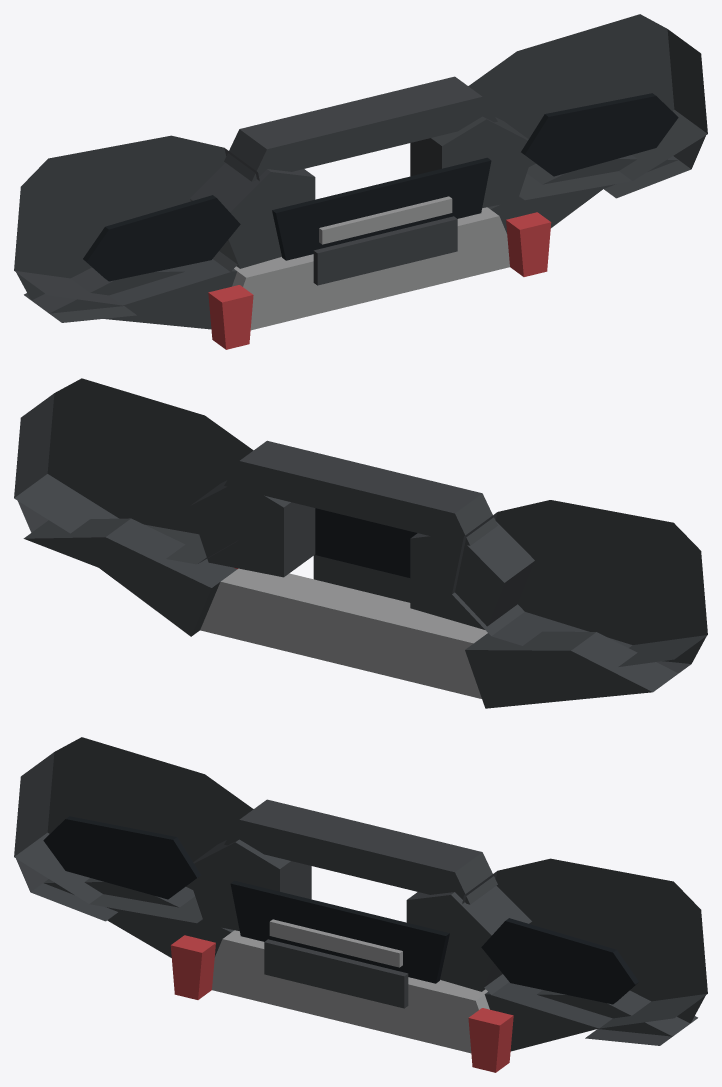
Rendered from predator-v4.glb.
The picture shows the model from 3 angles, top to bottom: view 1: azimuth 30°, elevation 25°; view 2: azimuth 150°, elevation 25°; view 3: azimuth 330°, elevation 25°; orthographic projection.
Parts seen in each view (by area): view 1: wing_L, wing_R, centre_upper, bash, winch_void, mesh_L, mesh_R, centre_left, centre_right, under_L, plate_bracket, under_R (+5 smaller); view 2: wing_R, wing_L, bash, centre_upper, under_L, under_R, centre_left, centre_right, winch_void, plate_bracket, facet_L; view 3: wing_R, wing_L, centre_upper, bash, winch_void, mesh_R, mesh_L, centre_right, centre_left, plate_bracket, under_R, under_L (+5 smaller).
Boxes of the visible parts, x1,y1,x2,y2 form: wing_L: [14, 135, 259, 305]; wing_R: [468, 14, 707, 200]; centre_upper: [224, 76, 497, 181]; bash: [232, 207, 509, 330]; winch_void: [272, 157, 491, 260]; mesh_L: [83, 195, 240, 281]; mesh_R: [521, 93, 678, 176]; centre_left: [190, 163, 315, 268]; centre_right: [410, 116, 530, 207]; under_L: [24, 267, 237, 329]; plate_bracket: [313, 216, 457, 285]; under_R: [487, 155, 678, 233]; wing_R: [14, 378, 253, 564]; wing_L: [452, 500, 707, 666]; bash: [200, 568, 487, 698]; centre_upper: [224, 440, 497, 545]; under_L: [465, 631, 678, 708]; under_R: [23, 518, 236, 636]; centre_left: [410, 521, 534, 629]; centre_right: [190, 480, 315, 577]; winch_void: [315, 508, 417, 577]; plate_bracket: [313, 555, 410, 602]; facet_L: [656, 636, 706, 673]; wing_R: [462, 858, 707, 1028]; wing_L: [14, 737, 253, 923]; centre_upper: [224, 799, 497, 904]; bash: [212, 930, 489, 1053]; winch_void: [230, 880, 449, 983]; mesh_R: [481, 918, 638, 1004]; mesh_L: [43, 816, 200, 899]; centre_right: [406, 886, 531, 991]; centre_left: [191, 839, 311, 930]; plate_bracket: [264, 939, 408, 1008]; under_R: [484, 990, 697, 1051]; under_L: [43, 878, 234, 957].
Size of the model in its own units: 1.93 by 0.54 by 0.25.
